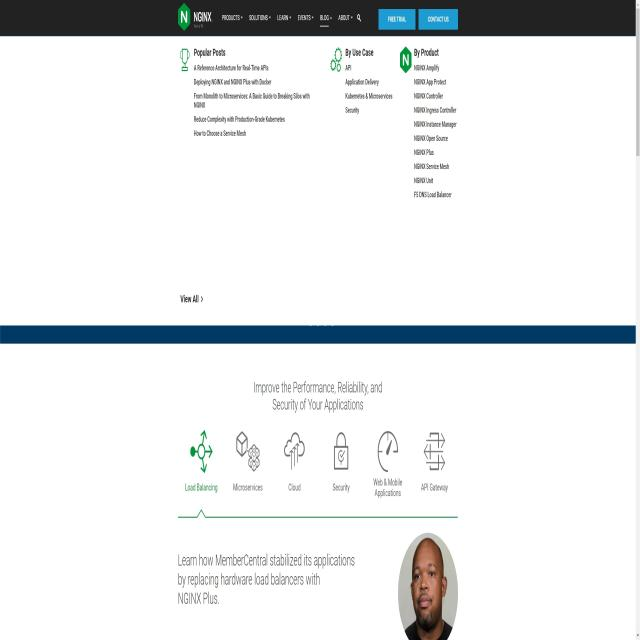menu-bar: (375, 3, 459, 29)
tab-bar: (168, 414, 458, 527), (179, 1, 367, 28)
